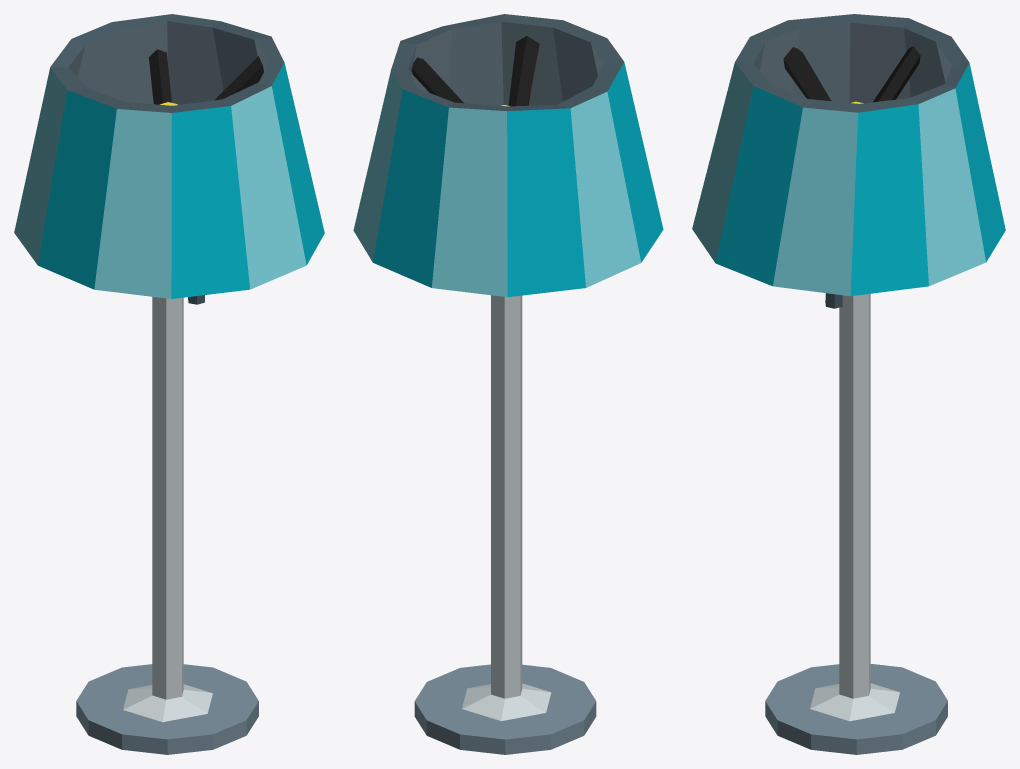
The model's file is Lamp.obj.
3 renders of one model, left to right at view 1: azimuth 30°, elevation 25°; view 2: azimuth 150°, elevation 25°; view 3: azimuth 270°, elevation 25°, orthographic.
Parts seen in each view (by area): view 1: group1158721303; view 2: group1158721303; view 3: group1158721303.
Part boxes in pixels (x1,y1,x2,y2): group1158721303: [14, 14, 324, 754]; group1158721303: [353, 14, 663, 754]; group1158721303: [692, 14, 1005, 754].
Bounding box in the file's own units: 0.4774 × 1.11 × 0.4805.
